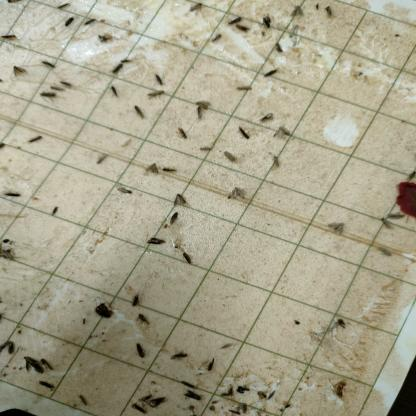prays_oleae: (133, 151, 162, 182), (49, 199, 70, 233), (171, 121, 194, 152), (225, 14, 251, 41), (192, 94, 214, 122), (108, 57, 134, 80), (114, 184, 140, 205), (256, 61, 279, 83), (133, 337, 154, 360), (379, 210, 395, 240), (20, 360, 54, 374), (2, 27, 21, 51), (143, 87, 169, 104), (58, 9, 77, 31), (226, 120, 248, 138), (384, 208, 405, 226), (168, 181, 183, 206), (180, 248, 194, 274), (2, 184, 20, 204), (329, 218, 348, 236), (222, 150, 243, 166), (131, 99, 144, 124), (12, 62, 30, 80), (98, 30, 118, 46), (209, 31, 225, 51), (169, 349, 195, 361), (38, 92, 61, 104), (146, 157, 159, 178), (189, 3, 209, 16), (146, 236, 164, 250), (230, 185, 249, 198), (97, 149, 109, 168), (260, 15, 270, 37), (108, 80, 118, 101), (274, 126, 292, 137), (61, 78, 76, 90), (130, 291, 141, 307), (269, 155, 283, 165), (261, 111, 272, 123), (165, 216, 183, 223)
